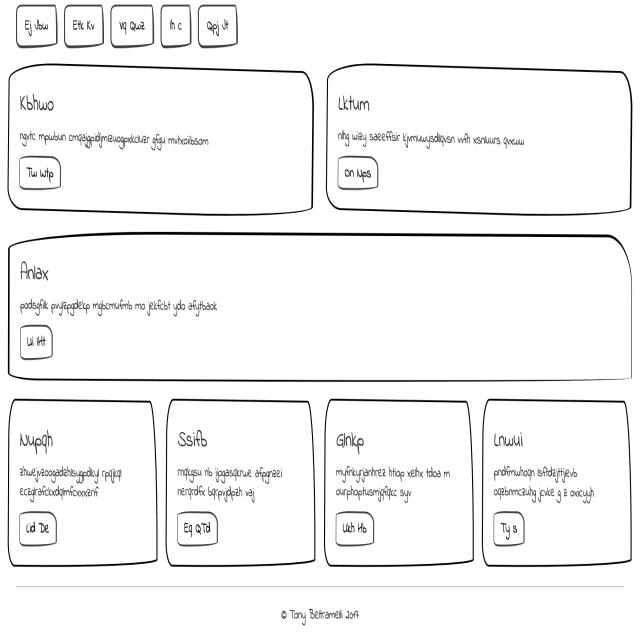Button: (179, 510, 227, 558), (20, 506, 57, 556), (332, 510, 378, 549), (15, 155, 66, 187), (337, 155, 387, 185), (19, 325, 55, 364), (494, 509, 526, 546)
Card: (11, 240, 633, 386), (323, 74, 638, 219), (9, 72, 315, 220), (479, 402, 628, 572), (328, 399, 473, 570), (15, 395, 156, 565), (167, 409, 315, 560)
Footer: (6, 580, 640, 640)
Heading 6: (16, 415, 78, 460), (487, 419, 549, 455), (15, 249, 61, 291), (333, 88, 381, 122), (18, 88, 72, 116), (180, 426, 216, 462), (335, 425, 375, 454)
Navigation Bar: (3, 3, 239, 51)
Paragraph: (18, 115, 248, 156), (16, 293, 224, 325), (329, 458, 460, 508), (331, 119, 538, 150), (19, 458, 126, 504), (486, 467, 602, 503), (174, 469, 290, 503)
